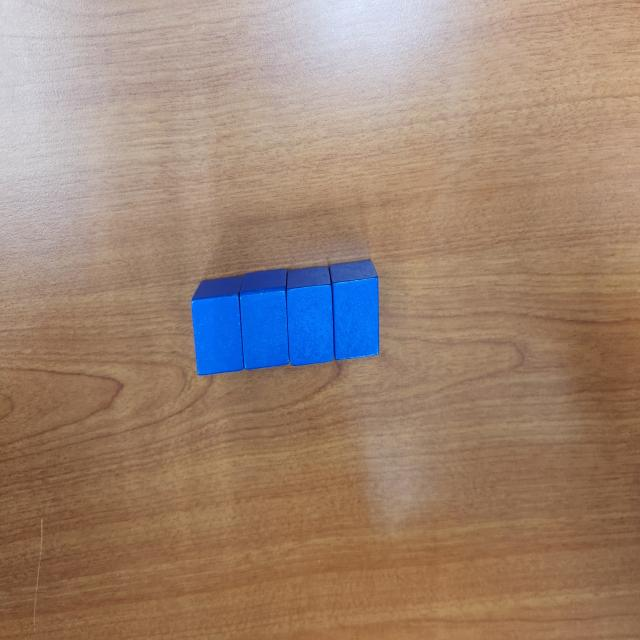blue: (191, 277, 245, 376), (328, 259, 380, 361), (239, 268, 290, 370), (285, 265, 335, 367)
